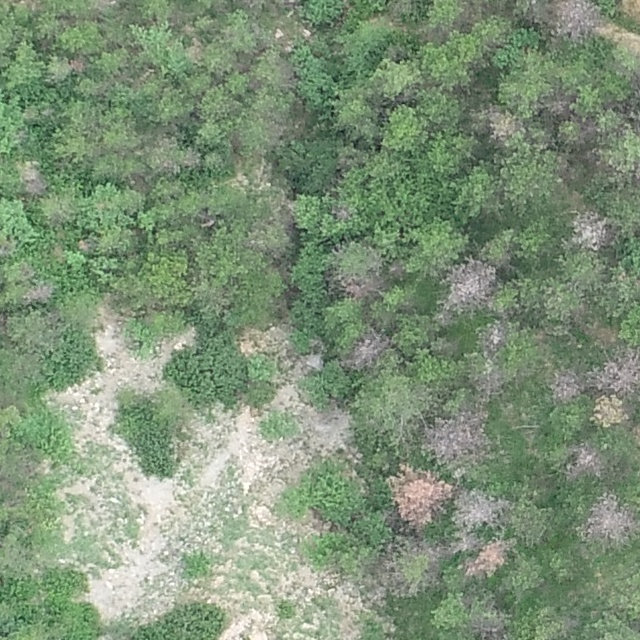unhealthy: (387, 470, 449, 528), (423, 412, 488, 467), (580, 495, 639, 544), (446, 258, 497, 309), (298, 404, 353, 451), (454, 488, 509, 528), (595, 346, 640, 394), (549, 0, 601, 38), (457, 532, 503, 573), (569, 209, 615, 250), (347, 330, 392, 370), (564, 440, 604, 479), (486, 105, 521, 143), (469, 608, 510, 640), (335, 272, 383, 299), (592, 394, 631, 425), (16, 160, 47, 196), (473, 366, 506, 398), (551, 369, 583, 402), (477, 319, 507, 352), (23, 282, 55, 305), (545, 95, 570, 116), (179, 147, 200, 168), (68, 55, 87, 76), (330, 203, 353, 220)
